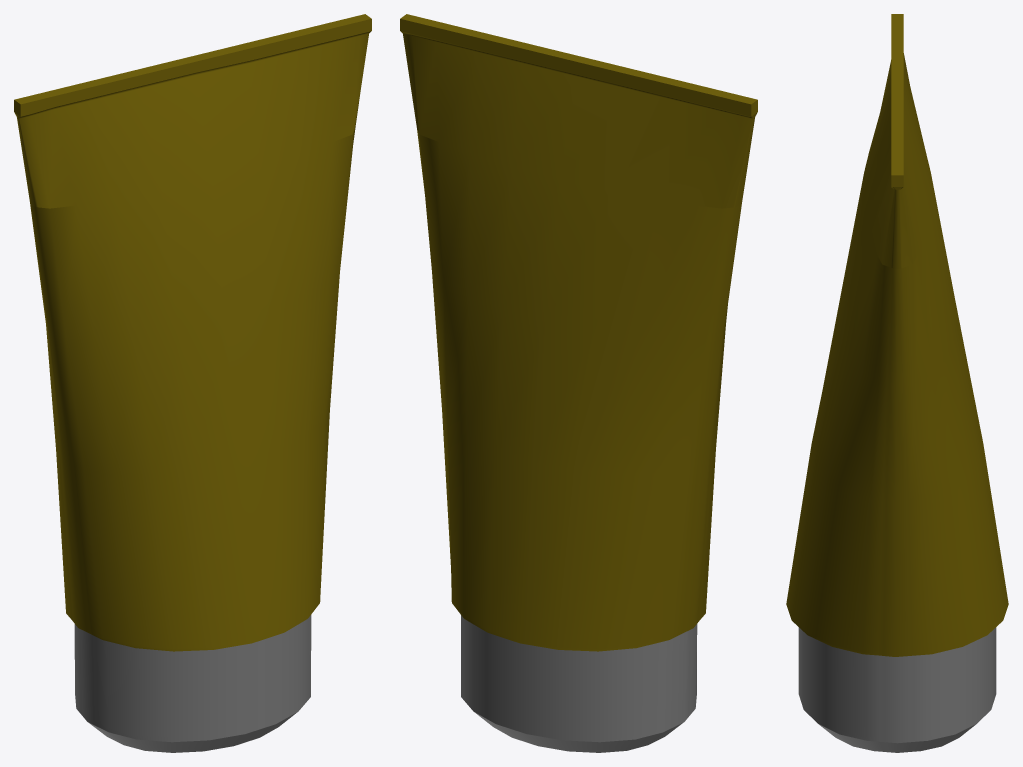
Rendered from cream_lp.fbx.
The picture shows the model from 3 angles, left to right: view 1: azimuth 30°, elevation 25°; view 2: azimuth 150°, elevation 25°; view 3: azimuth 270°, elevation 25°; orthographic projection. The views are drawn at different scales.
Visible parts, largest first — view 1: cream_lp; view 2: cream_lp; view 3: cream_lp.
Boxes of the visible parts, x1,y1,x2,y2 form: cream_lp: (14, 14, 371, 752); cream_lp: (400, 14, 757, 752); cream_lp: (786, 14, 1008, 752).
Size of the model in its own units: 5.65 by 10.1 by 3.29.
Materials: 3 (2 with a texture image).
